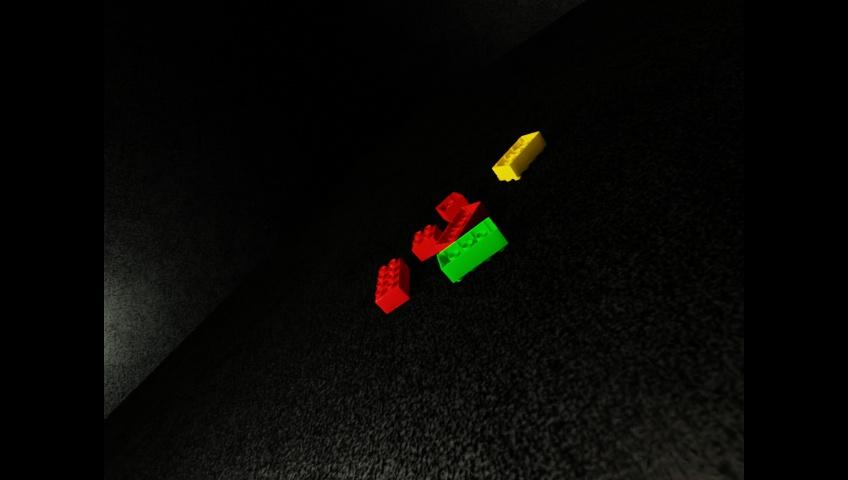2x2_red: (412, 224, 442, 261), (435, 192, 469, 222)
4x2_green: (437, 217, 507, 282)
4x2_red: (434, 201, 489, 253), (375, 257, 409, 313)
4x2_yellow: (492, 131, 546, 182)
